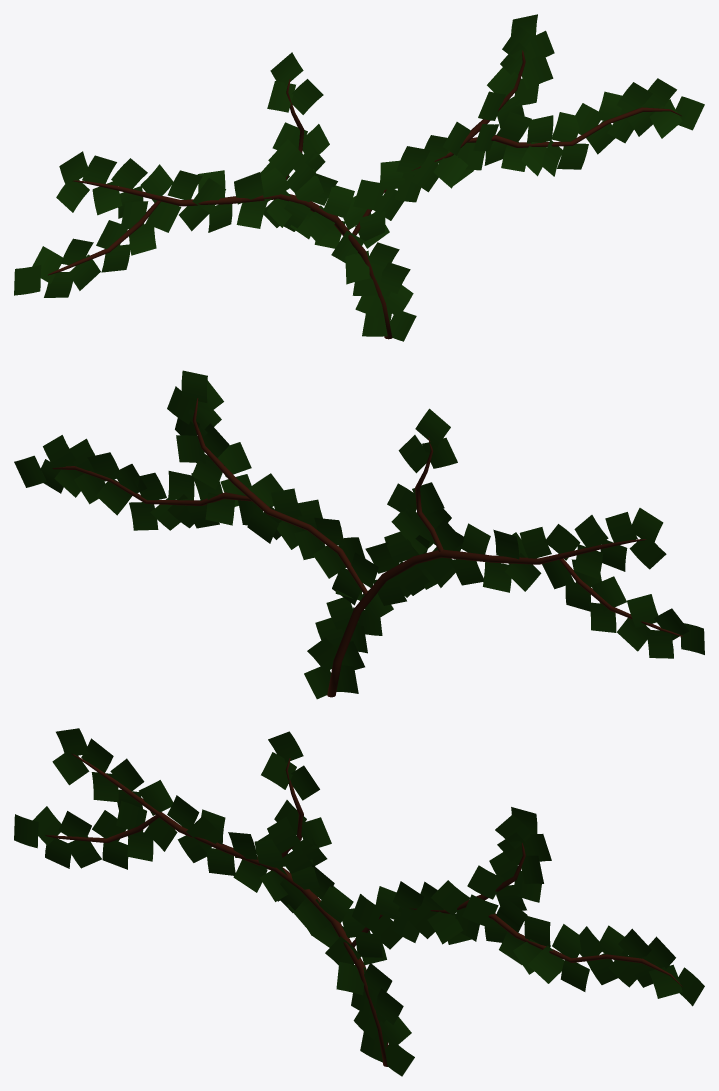
File: VigneGrimpanteV2.fbx
3 renders of one model, top to bottom at view 1: azimuth 30°, elevation 25°; view 2: azimuth 150°, elevation 25°; view 3: azimuth 330°, elevation 25°, orthographic.
Parts seen in each view (by area): view 1: Object001; view 2: Object001; view 3: Object001.
Boxes of the visible parts, x1=… form: Object001: x1=14, y1=14, x2=704, y2=341; Object001: x1=14, y1=370, x2=704, y2=699; Object001: x1=14, y1=728, x2=704, y2=1076.
Bounding box in the file's own units: 558 × 245 × 13.98.
